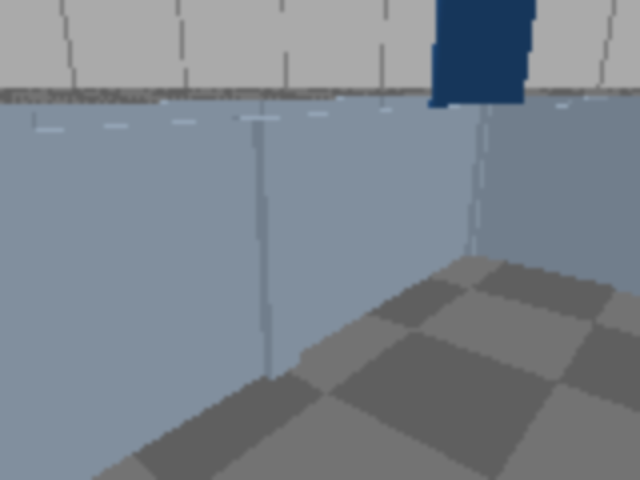person: (632, 0, 638, 281)
